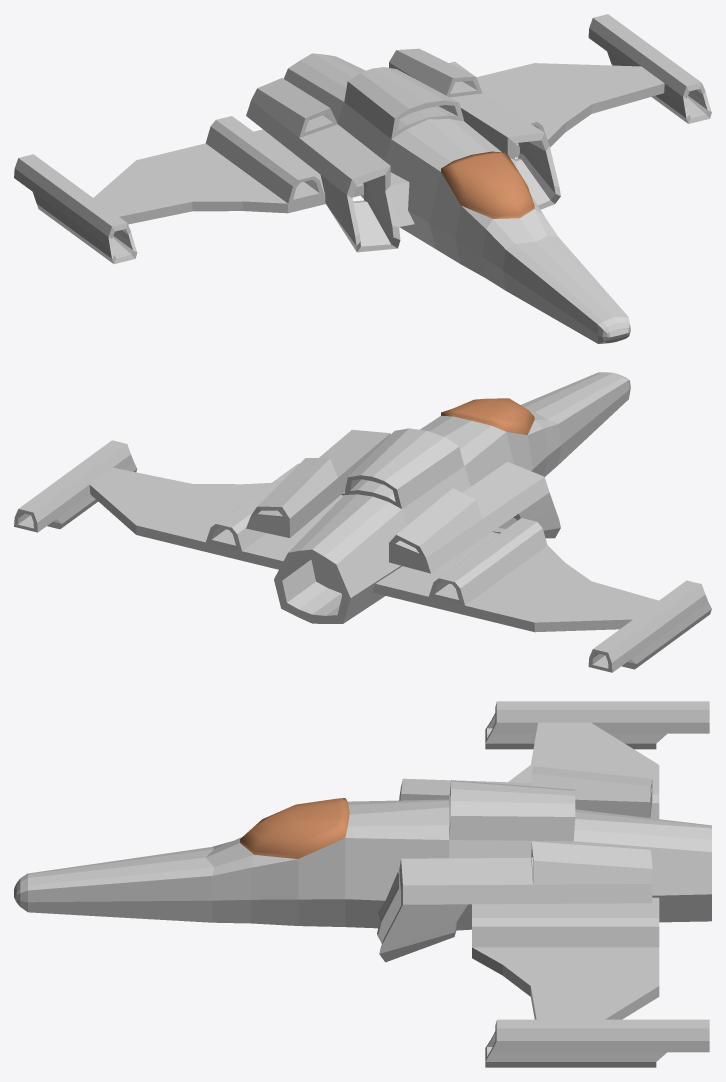
File: spaceship3.glb
3 views of the same model, one above another, from view 1: azimuth 30°, elevation 25°; view 2: azimuth 150°, elevation 25°; view 3: azimuth 270°, elevation 25° (orthographic). The views are drawn at different scales.
Visible parts, largest first — view 1: Spaceship3_Cube; view 2: Spaceship3_Cube; view 3: Spaceship3_Cube.
Boxes of the visible parts, <box> form: Spaceship3_Cube: <box>14,14,711,343</box>; Spaceship3_Cube: <box>14,372,711,672</box>; Spaceship3_Cube: <box>14,701,711,1067</box>.
Bounding box in the file's own units: 10.38 × 1.86 × 9.21.
